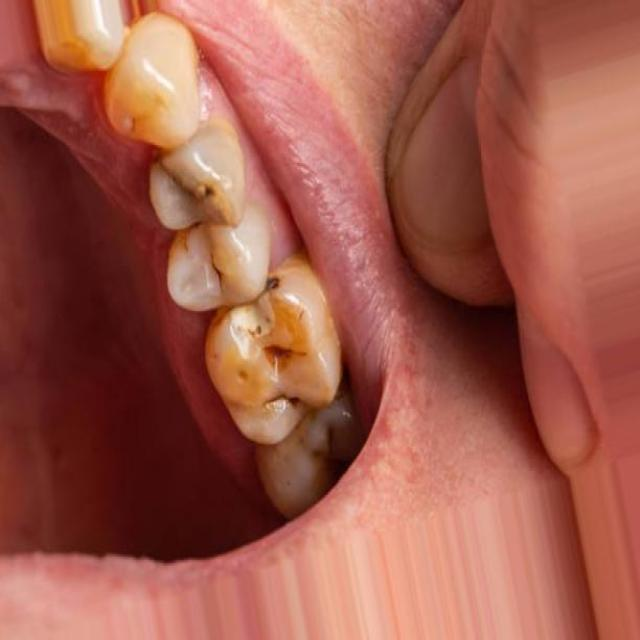caries: (160, 162, 222, 226), (306, 413, 353, 492), (260, 326, 316, 381), (254, 375, 305, 428), (194, 238, 232, 300), (253, 260, 293, 314)
